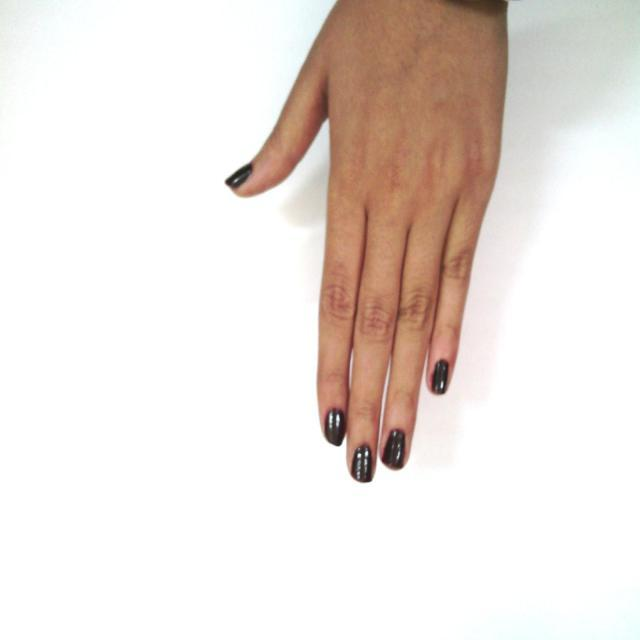Fingernail: (383, 430, 406, 469), (351, 445, 373, 483), (325, 409, 345, 446), (432, 360, 448, 394), (226, 166, 251, 185)
